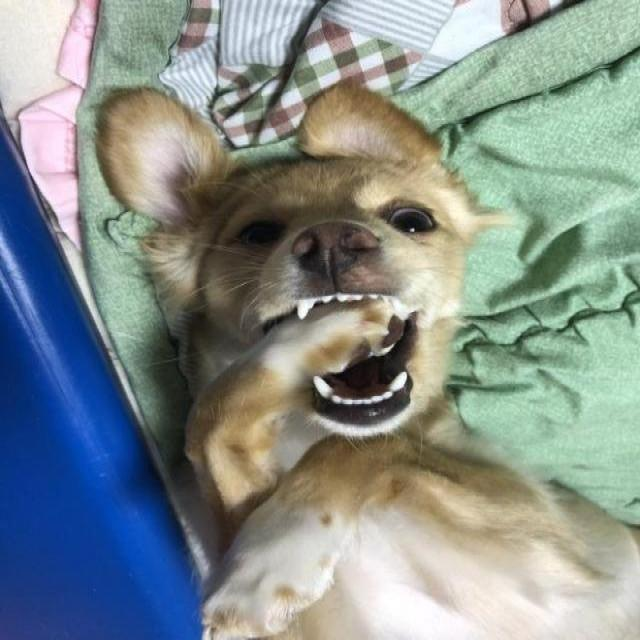deer: (70, 58, 640, 640)
